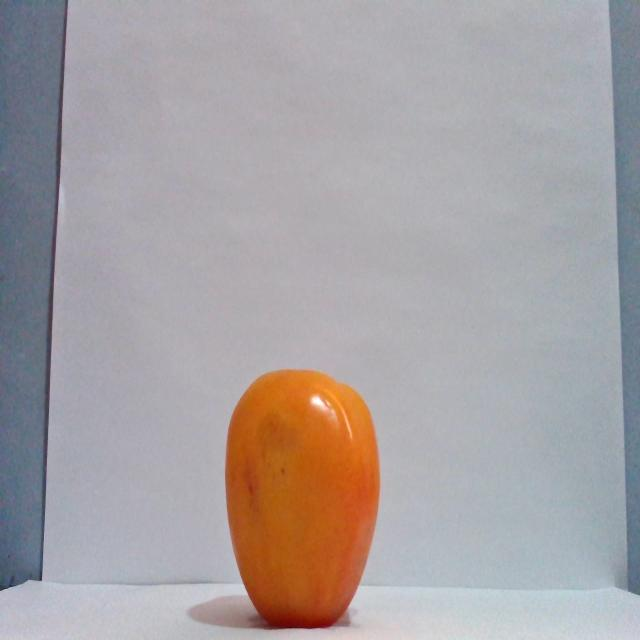Red: (223, 366, 381, 628)
